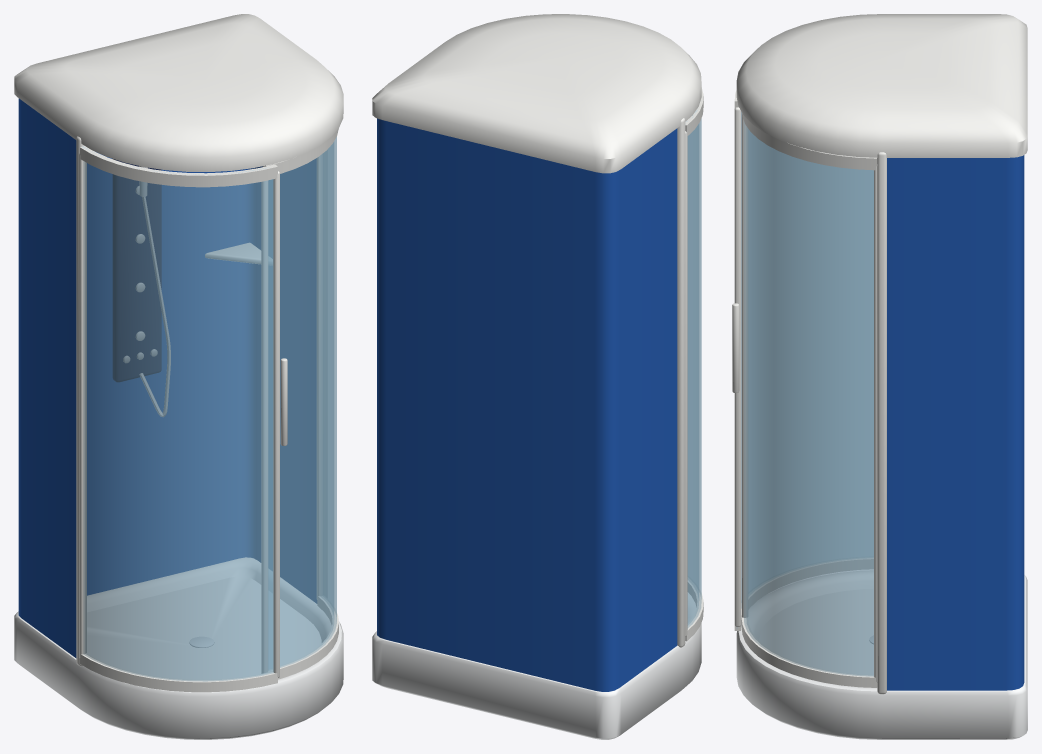
The model's file is box_chuveiro_cabine_azul.glb.
The picture shows the model from 3 angles, left to right: view 1: azimuth 30°, elevation 25°; view 2: azimuth 150°, elevation 25°; view 3: azimuth 270°, elevation 25°; orthographic projection. The views are drawn at different scales.
Parts seen in each view (by area): view 1: box_chuveiro_cabine_azul, porta_box; view 2: box_chuveiro_cabine_azul; view 3: box_chuveiro_cabine_azul, porta_box.
Part boxes in pixels (box(x1,y1,x2,y2)): box_chuveiro_cabine_azul: box(14, 14, 343, 739); porta_box: box(261, 128, 338, 679); box_chuveiro_cabine_azul: box(372, 14, 703, 739); box_chuveiro_cabine_azul: box(734, 14, 1027, 739); porta_box: box(732, 112, 877, 687).
Size of the model in its own units: 0.9107 by 2.11 by 0.9133.
2 materials, 1 textured.
